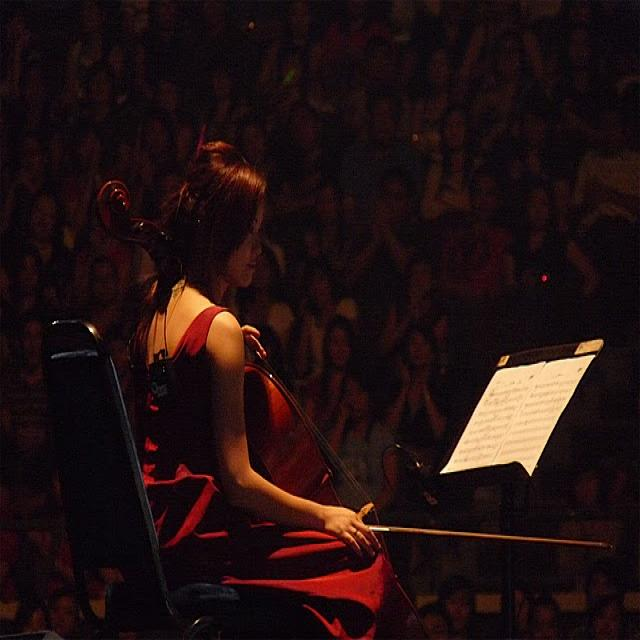cello: (91, 177, 412, 632)
